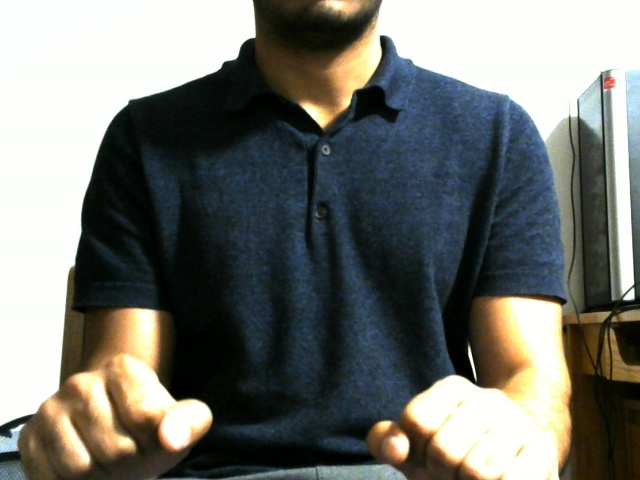can: (2, 288, 625, 480)
